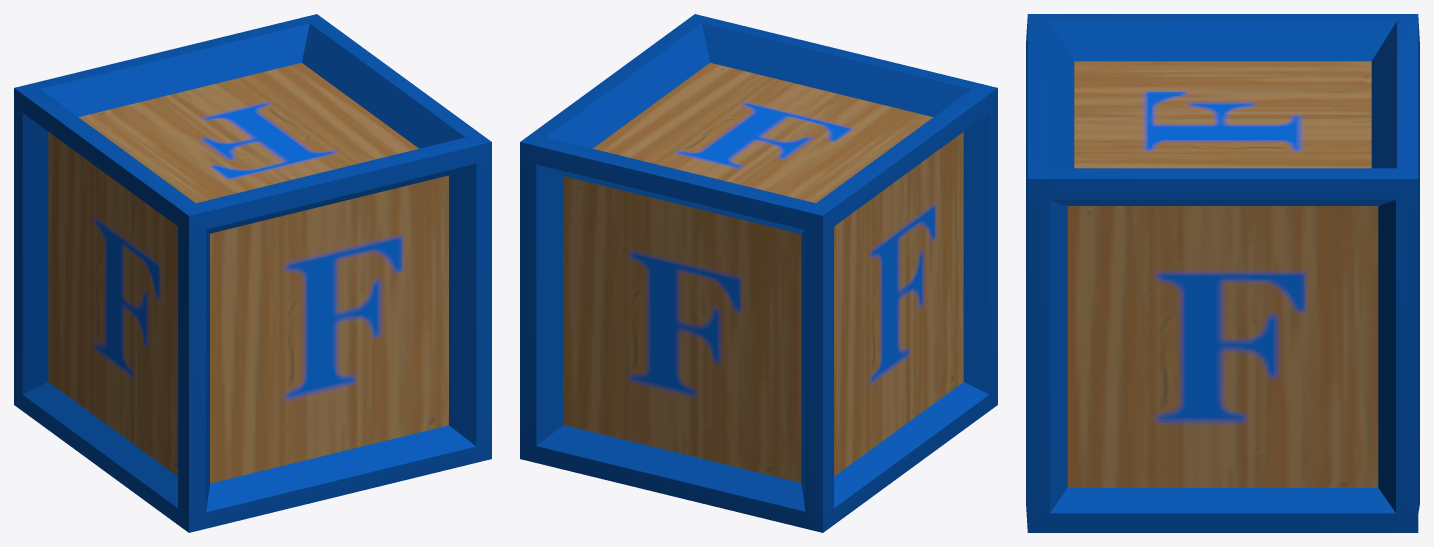
The model's file is Letter_F.fbx.
3 views of the same model, side by side, from view 1: azimuth 30°, elevation 25°; view 2: azimuth 150°, elevation 25°; view 3: azimuth 270°, elevation 25° (orthographic). The views are drawn at different scales.
Visible parts, largest first — view 1: LetterBlock_F; view 2: LetterBlock_F; view 3: LetterBlock_F.
Boxes of the visible parts, x1,y1,x2,y2 form: LetterBlock_F: (14,14,491,532); LetterBlock_F: (520,14,997,532); LetterBlock_F: (1026,14,1419,532).
Size of the model in its own units: 0.1209 by 0.1213 by 0.121.
Materials: 1 (1 with a texture image).
